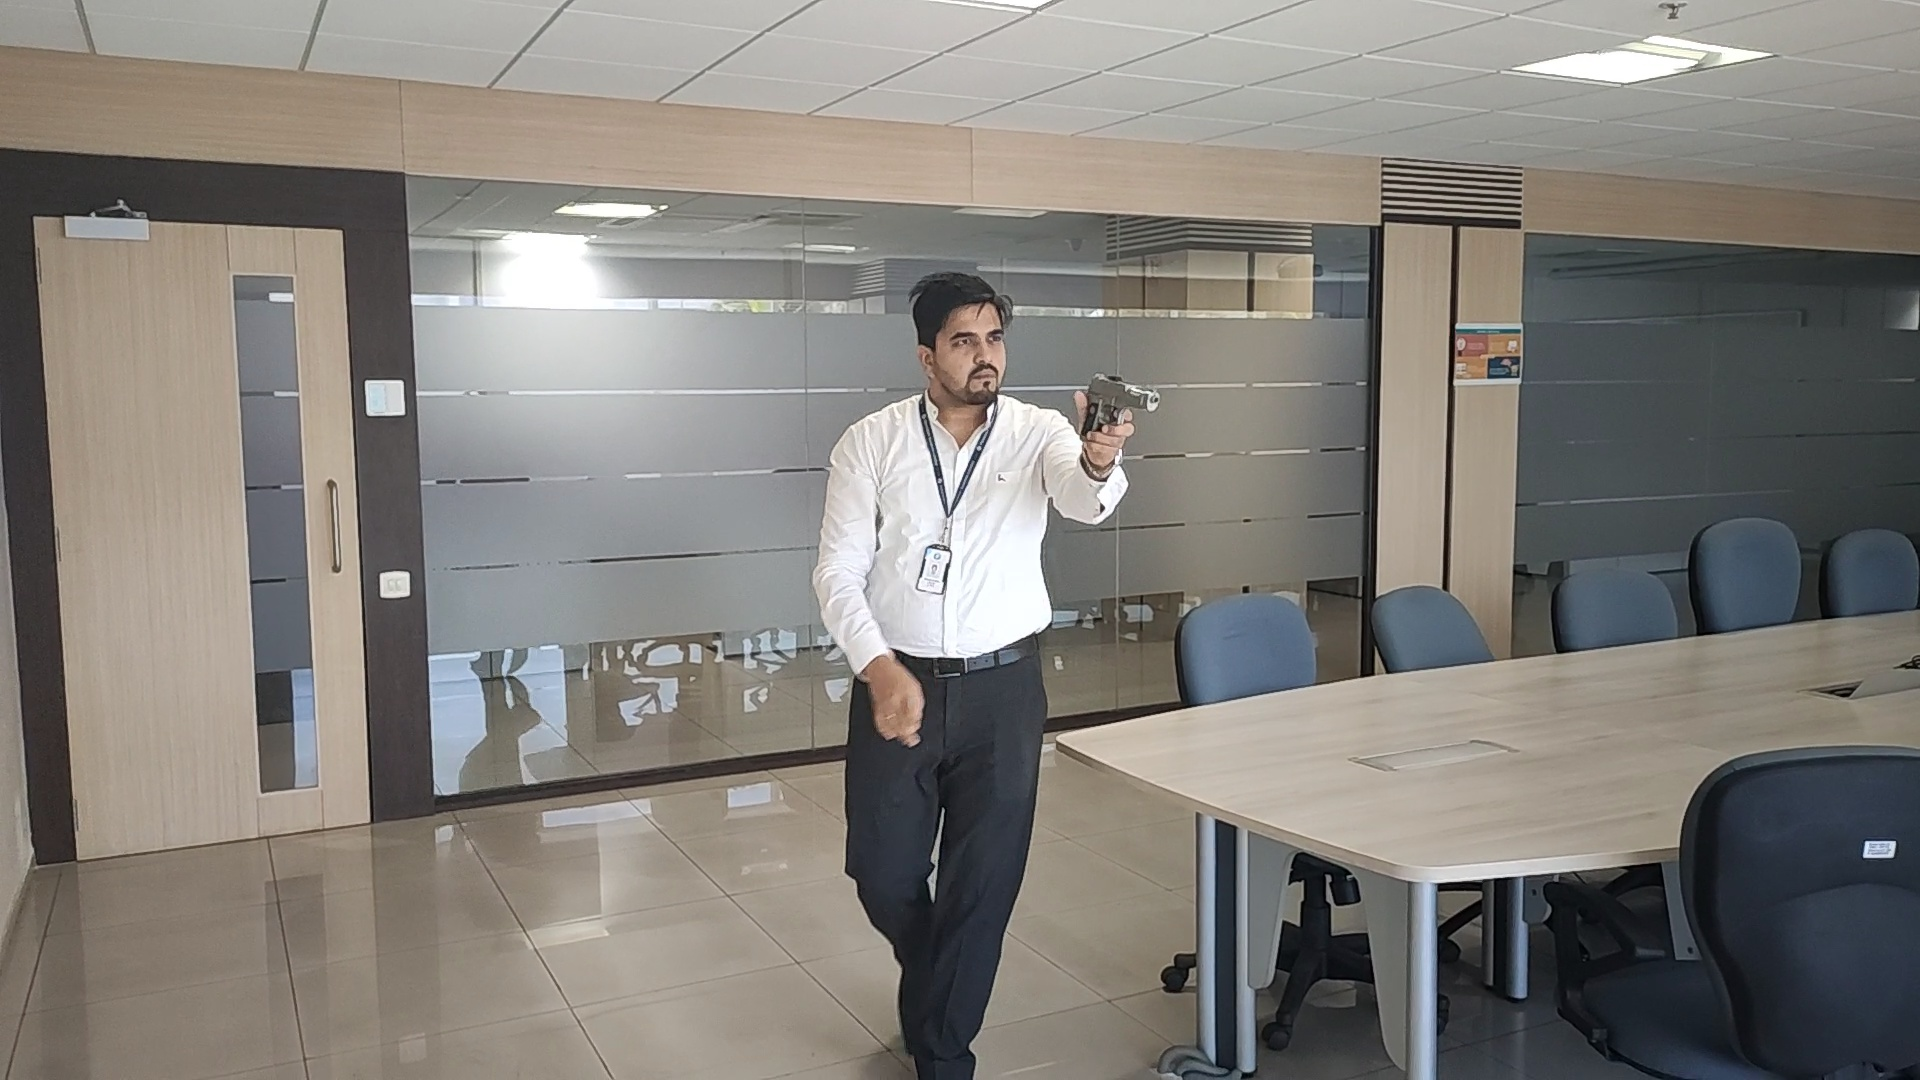gun: (1081, 373, 1162, 443)
